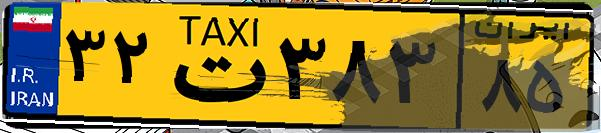2: (110, 28, 158, 98)
3: (270, 28, 330, 110), (385, 28, 445, 110), (57, 26, 110, 100)
5: (525, 38, 570, 115)
8: (330, 28, 385, 110), (475, 38, 525, 113)
ت: (158, 12, 270, 120)
